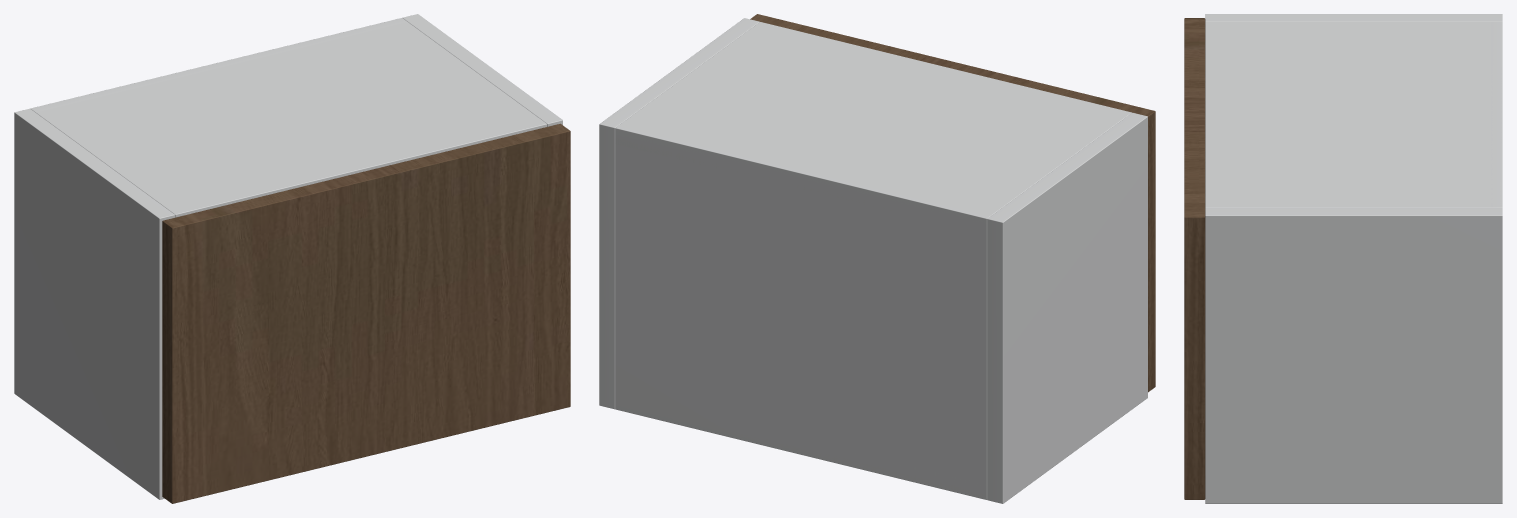
Rendered from oppein-ply-mso-w1812.glb.
3 views of the same model, side by side, from view 1: azimuth 30°, elevation 25°; view 2: azimuth 150°, elevation 25°; view 3: azimuth 270°, elevation 25° (orthographic). The views are drawn at different scales.
Visible parts, largest first — view 1: Door, Cabinet top, Cabinet side, Cabinet side.001, Cabinet back; view 2: Cabinet back, Cabinet top, Cabinet side, Cabinet side.001, Door, Cabinet bottom; view 3: Cabinet side.001, Cabinet top, Door, Cabinet side, Cabinet back.
Boxes of the visible parts, <box> form: Door: <box>162,123,570,503</box>; Cabinet top: <box>36,18,546,217</box>; Cabinet side: <box>14,108,174,499</box>; Cabinet side.001: <box>402,14,562,126</box>; Cabinet back: <box>30,18,407,112</box>; Cabinet back: <box>615,123,992,499</box>; Cabinet top: <box>615,22,1131,230</box>; Cabinet side: <box>987,112,1147,503</box>; Cabinet side.001: <box>599,18,759,409</box>; Door: <box>750,14,1155,392</box>; Cabinet bottom: <box>615,404,987,499</box>; Cabinet side.001: <box>1205,208,1502,503</box>; Cabinet top: <box>1205,22,1501,207</box>; Door: <box>1184,18,1205,499</box>; Cabinet side: <box>1205,14,1502,21</box>; Cabinet back: <box>1490,22,1502,207</box>.
Bounding box in the file's own units: 0.4572 × 0.3048 × 0.3048.
2 materials, 1 textured.
